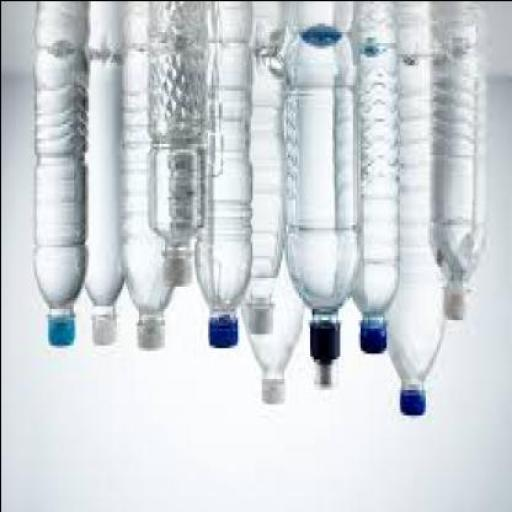plastic: (281, 34, 352, 388), (382, 53, 443, 420), (115, 48, 177, 352), (191, 40, 248, 350), (424, 36, 484, 324), (145, 36, 212, 291), (346, 36, 397, 355), (32, 45, 86, 346), (78, 51, 123, 347), (242, 53, 284, 336), (240, 262, 302, 406), (307, 319, 337, 389), (356, 321, 384, 356), (160, 257, 188, 292), (440, 294, 472, 324), (205, 318, 234, 350), (244, 308, 270, 336), (43, 320, 70, 346), (395, 392, 422, 417), (132, 328, 162, 350), (256, 383, 282, 408), (89, 320, 114, 346)
